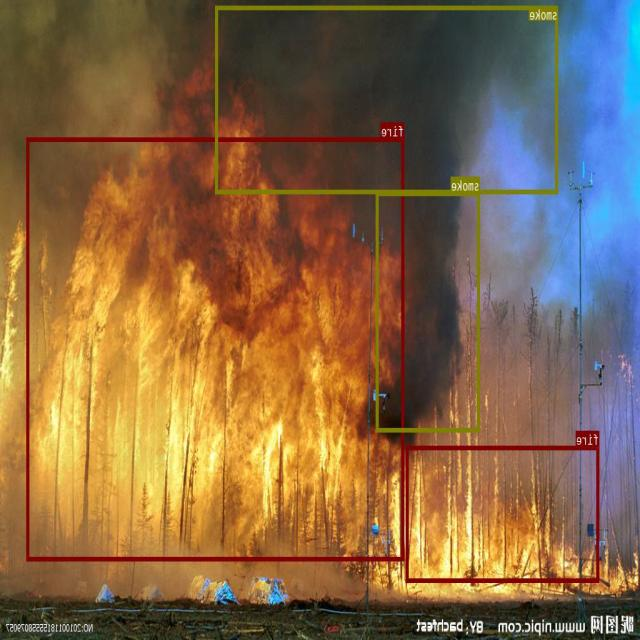fire: (27, 137, 405, 560), (406, 446, 600, 582)
smoke: (216, 5, 558, 193), (377, 192, 480, 432)
